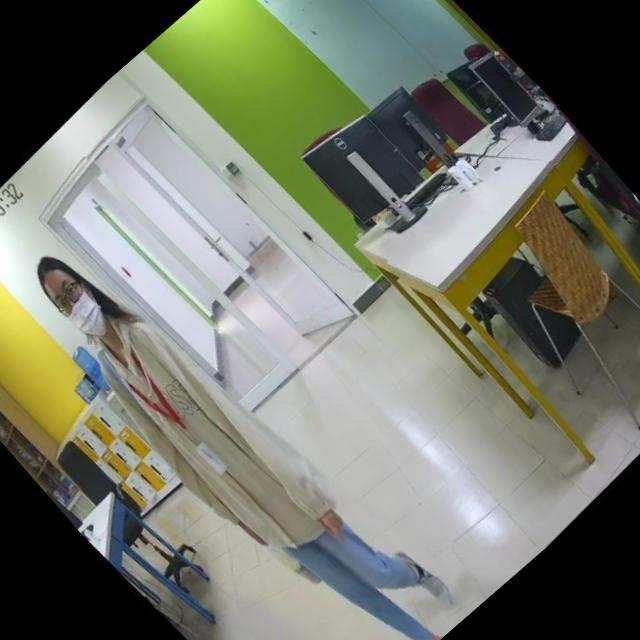person: (3, 203, 463, 640)
